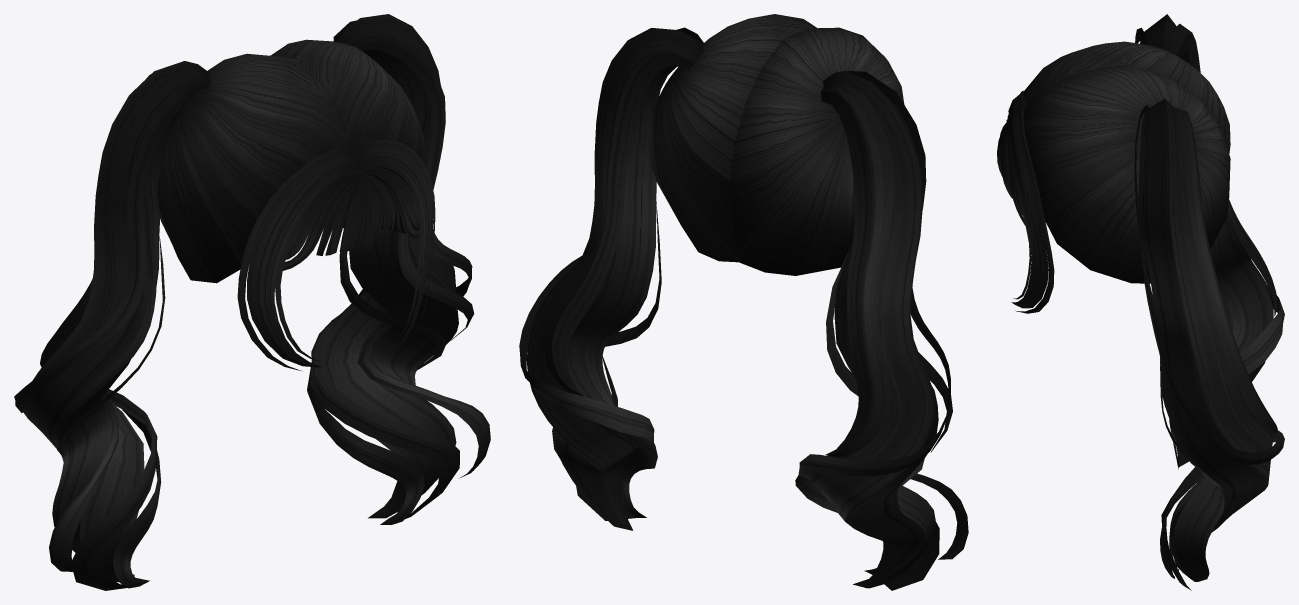
3 renders of one model, left to right at view 1: azimuth 30°, elevation 25°; view 2: azimuth 150°, elevation 25°; view 3: azimuth 270°, elevation 25°, orthographic. The views are drawn at different scales.
Parts seen in each view (by area): view 1: geometry_0; view 2: geometry_0; view 3: geometry_0.
Boxes of the visible parts, x1,y1,x2,y2 form: geometry_0: (14, 14, 490, 590); geometry_0: (519, 14, 968, 590); geometry_0: (997, 14, 1284, 590).
Bounding box in the file's own units: 2.82 × 3.21 × 1.8.
Materials: 1 (1 with a texture image).
